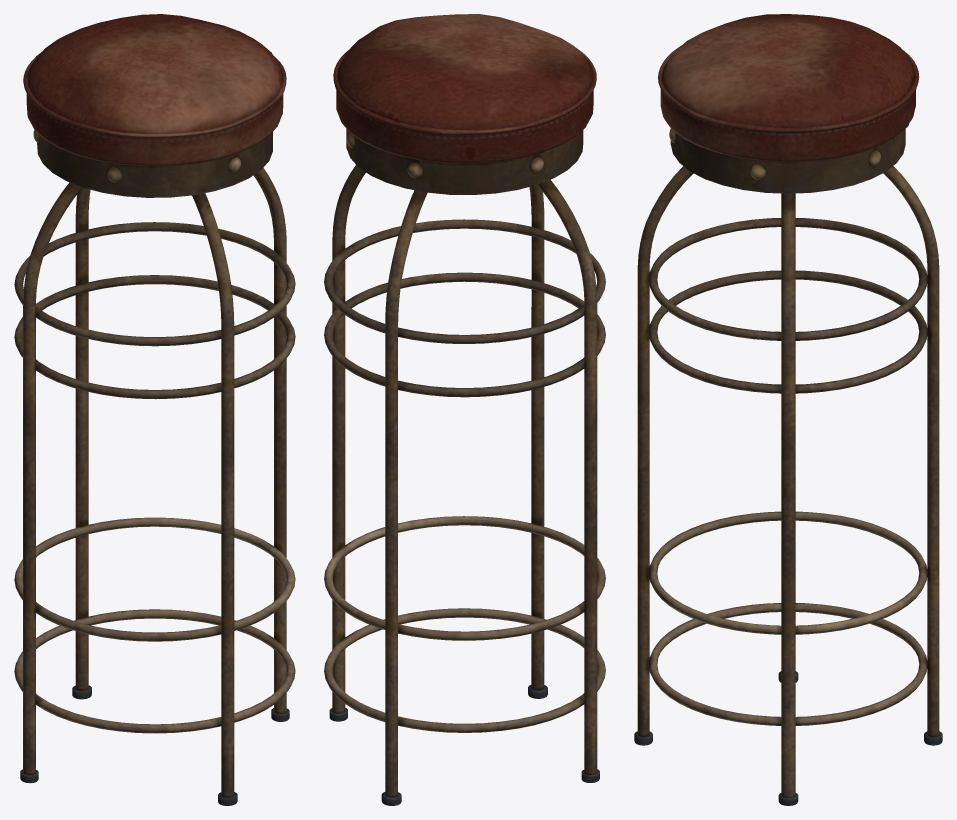
Rendered from metal_stool_01.glb.
3 views of the same model, side by side, from view 1: azimuth 30°, elevation 25°; view 2: azimuth 150°, elevation 25°; view 3: azimuth 270°, elevation 25° (orthographic).
Parts seen in each view (by area): view 1: metal_stool_01; view 2: metal_stool_01; view 3: metal_stool_01.
Part boxes in pixels (<box>): metal_stool_01: <box>14,14,295,805</box>; metal_stool_01: <box>324,14,605,805</box>; metal_stool_01: <box>634,14,942,805</box>.
Bounding box in the file's own units: 0.352 × 0.8828 × 0.3546.
Materials: 1 (1 with a texture image).
